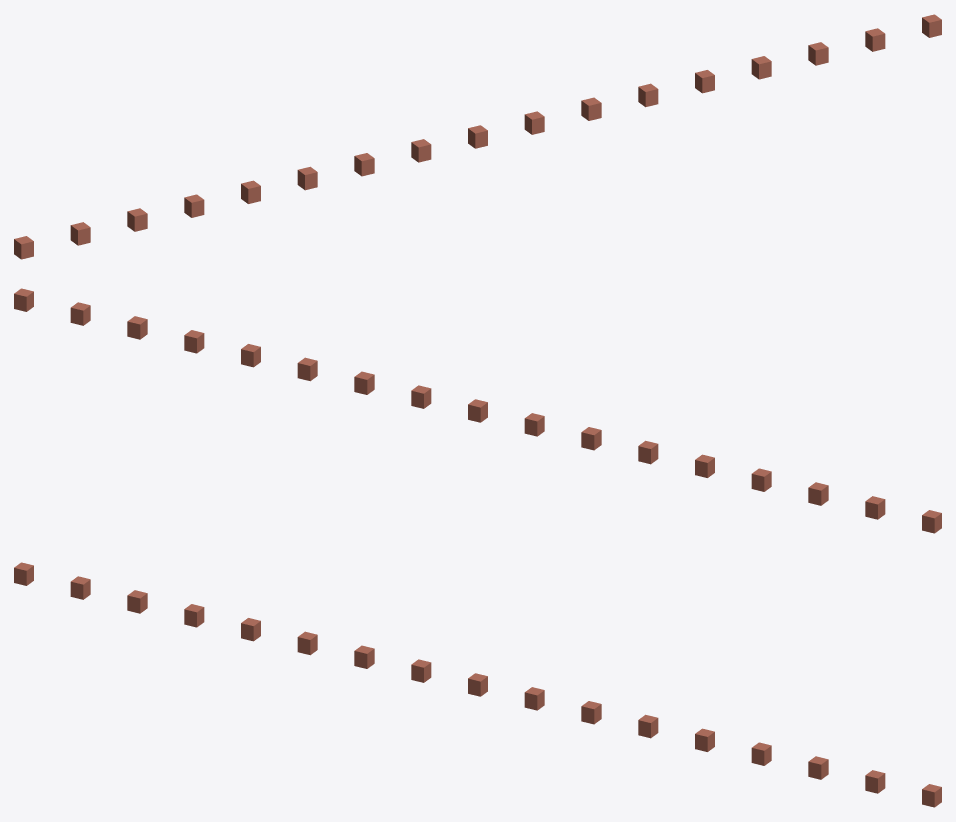
The model's file is excavation.glb.
3 renders of one model, top to bottom at view 1: azimuth 30°, elevation 25°; view 2: azimuth 150°, elevation 25°; view 3: azimuth 330°, elevation 25°, orthographic.
Bounding box in the file's own units: 507 × 8 × 7.
